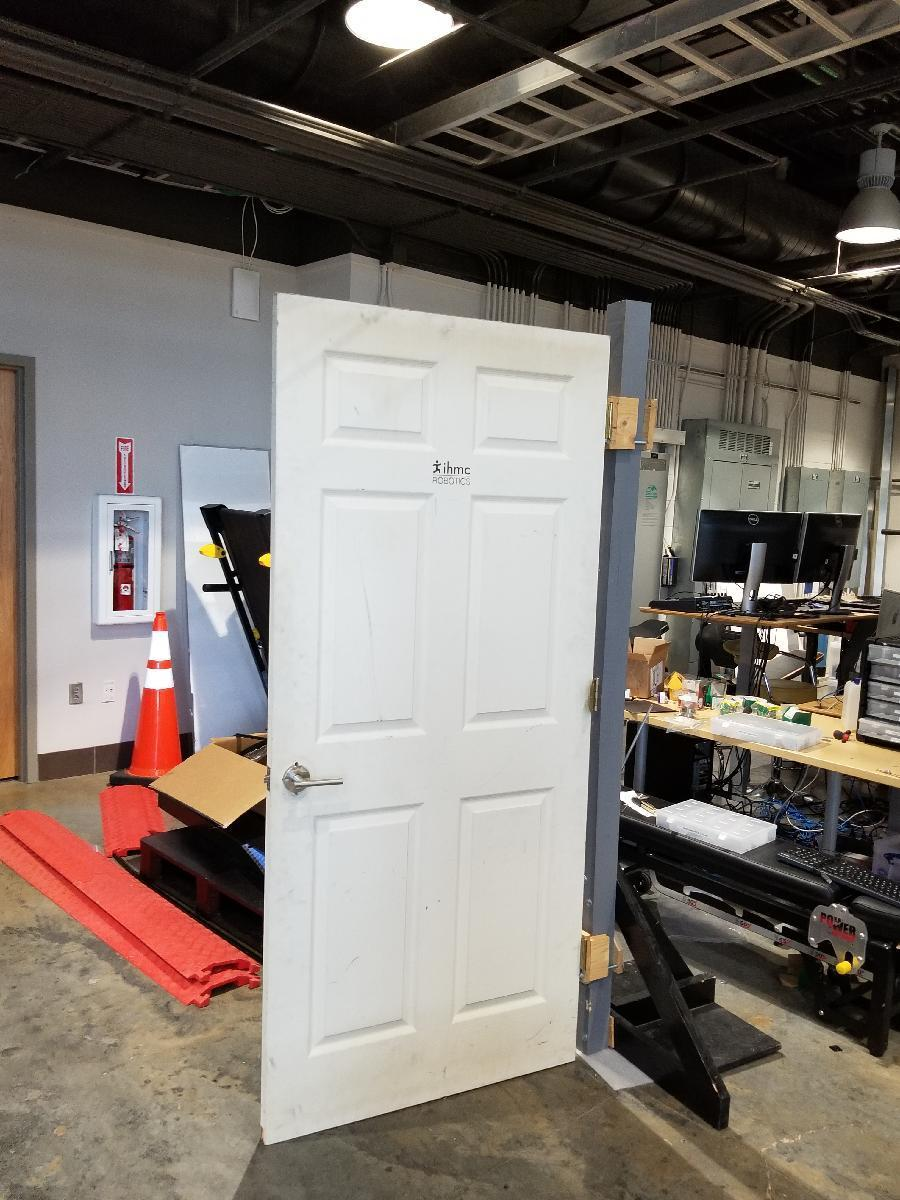door: (278, 293, 582, 1105)
handle: (276, 760, 342, 797)
